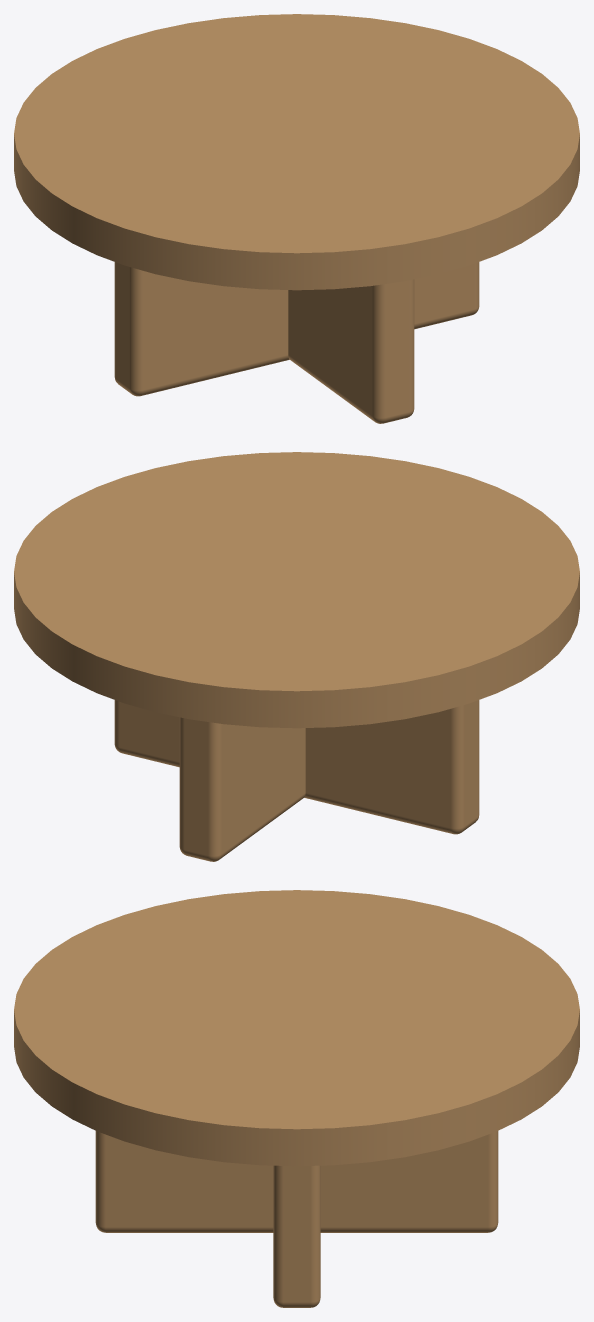
Rendered from orbit-table-oak.glb.
3 views of the same model, one above another, from view 1: azimuth 30°, elevation 25°; view 2: azimuth 150°, elevation 25°; view 3: azimuth 270°, elevation 25° (orthographic).
Visible parts, largest first — view 1: The Orbit Table — Oak; view 2: The Orbit Table — Oak; view 3: The Orbit Table — Oak.
Boxes of the visible parts, x1,y1,x2,y2 form: The Orbit Table — Oak: (14, 14, 579, 423); The Orbit Table — Oak: (14, 452, 579, 861); The Orbit Table — Oak: (14, 890, 579, 1307).
Size of the model in its own units: 0.9 by 0.38 by 0.9.
